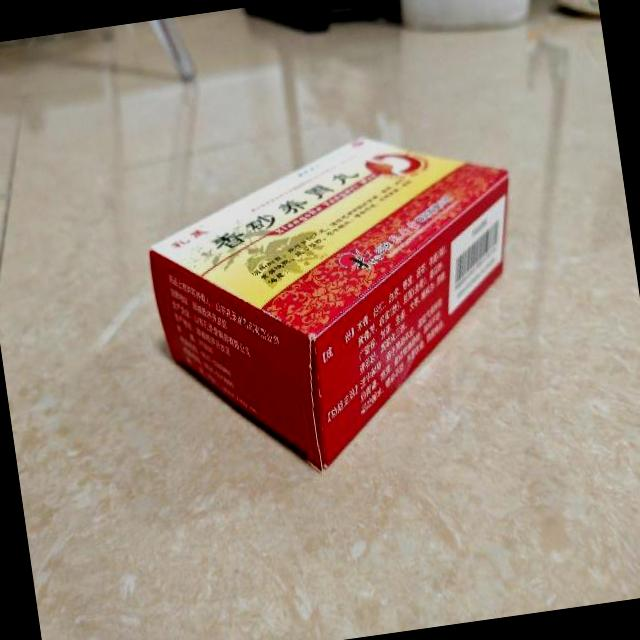box: (136, 114, 546, 490)
